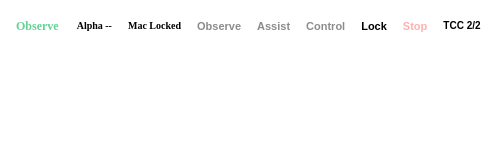
Test: ControlSafetyStrip › shows stopping, not stopped, while native Stop confirmation is pending
This screenshot has width=501, height=160.
Expected: the text "Observe" is shown, [16,18,59,32]
Click the button "Stop": click(415, 26) [397,14,433,38]
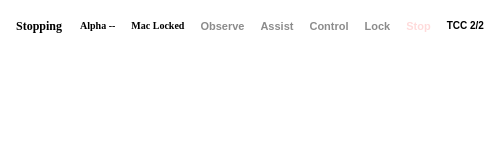
Now the text "Stopping" is shown, box [16,18,62,32]
Now the button "Stop" is disabled, box [400,14,437,38]
